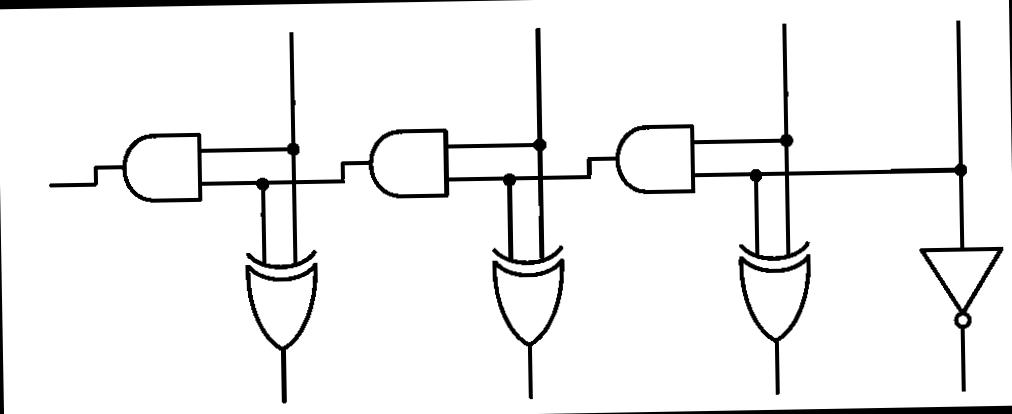and: (597, 102, 725, 216), (349, 120, 467, 216), (113, 123, 218, 214)
not: (914, 226, 1007, 338)
xor: (237, 236, 330, 358), (485, 234, 576, 356), (728, 230, 820, 350)
